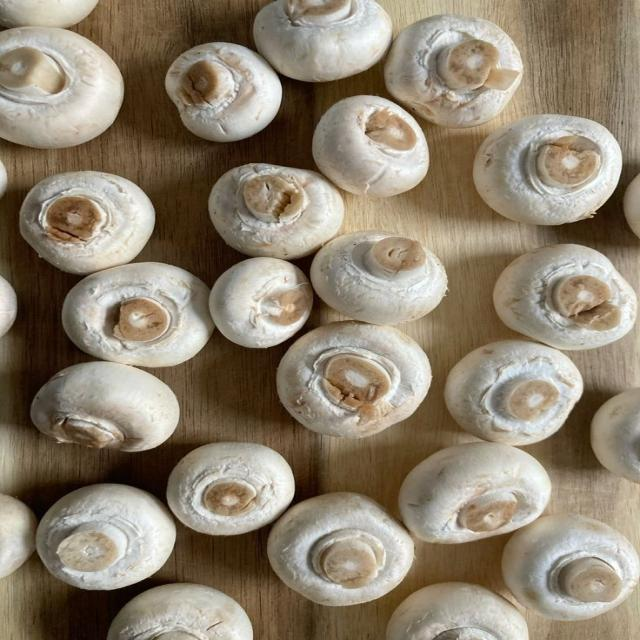champignon mushrooms: (277, 321, 431, 437), (268, 493, 413, 606), (474, 115, 621, 225), (62, 263, 213, 367), (385, 15, 522, 127), (399, 443, 551, 543), (494, 244, 636, 349), (0, 27, 123, 148), (445, 340, 583, 445), (37, 484, 175, 589), (502, 515, 639, 620), (20, 171, 154, 274), (31, 362, 179, 451), (209, 164, 344, 259), (311, 231, 446, 324), (313, 96, 429, 198), (167, 443, 294, 535), (166, 43, 281, 142), (254, 0, 392, 82), (210, 258, 313, 347), (387, 582, 528, 639), (107, 584, 253, 639), (591, 389, 639, 483), (0, 495, 37, 578), (0, 0, 98, 28), (0, 277, 17, 337), (624, 175, 639, 237), (0, 161, 7, 198)
